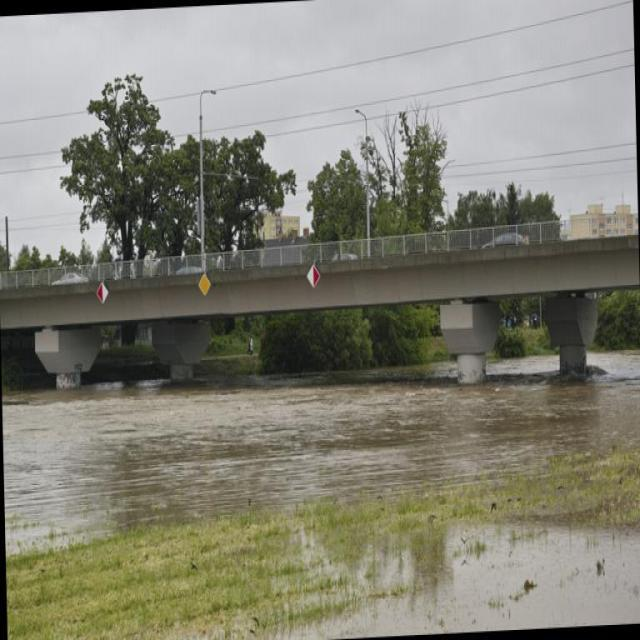flood: (0, 327, 639, 543)
